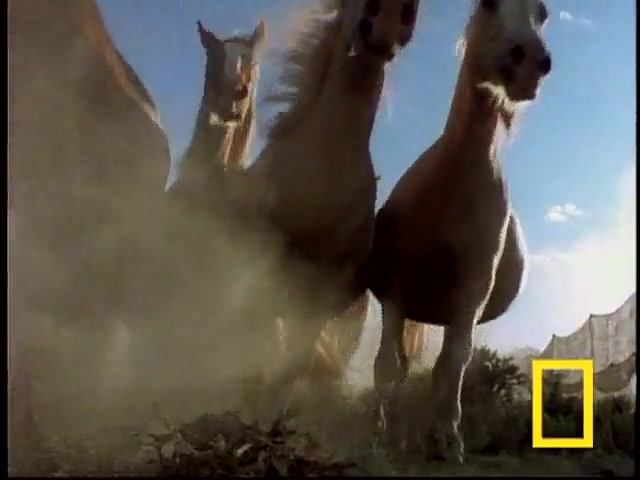horse: (370, 1, 554, 466)
